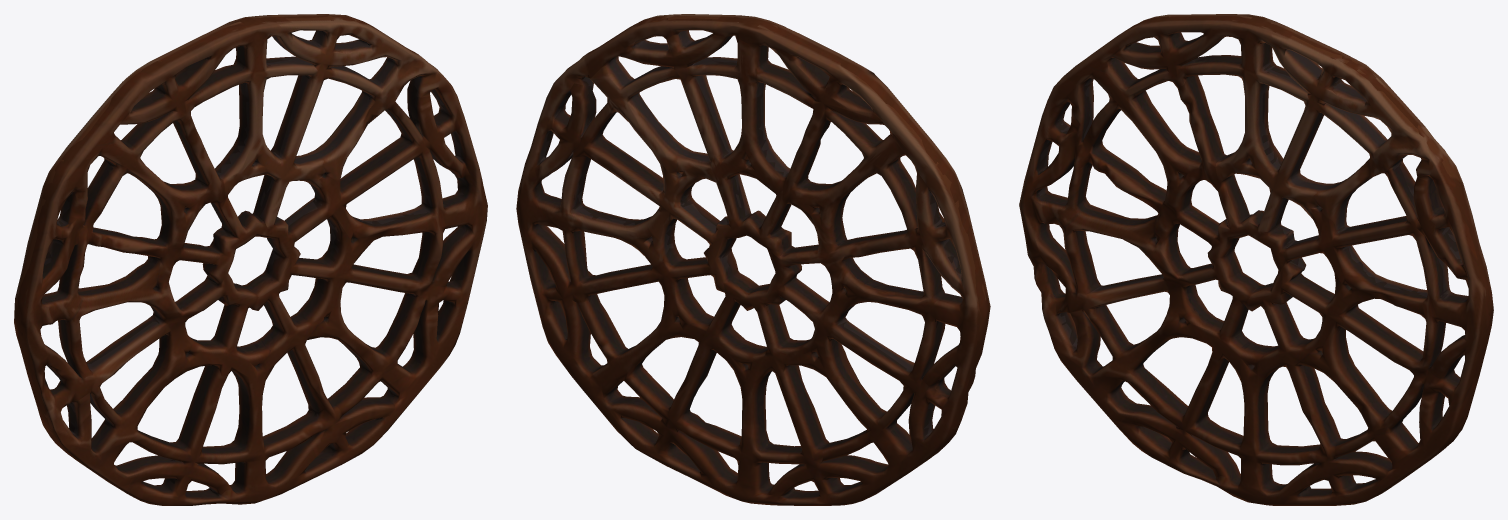
Rendered from towerWindow.glb.
3 views of the same model, side by side, from view 1: azimuth 30°, elevation 25°; view 2: azimuth 150°, elevation 25°; view 3: azimuth 330°, elevation 25° (orthographic).
Visible parts, largest first — view 1: defaultMaterial.001; view 2: defaultMaterial.001; view 3: defaultMaterial.001.
Boxes of the visible parts, left/top/right/bottom form: defaultMaterial.001: left=14, top=14, right=487, bottom=505; defaultMaterial.001: left=516, top=14, right=990, bottom=505; defaultMaterial.001: left=1019, top=14, right=1493, bottom=505.
Size of the model in its own units: 62.04 by 61.3 by 4.32.
Materials: 1 (1 with a texture image).
